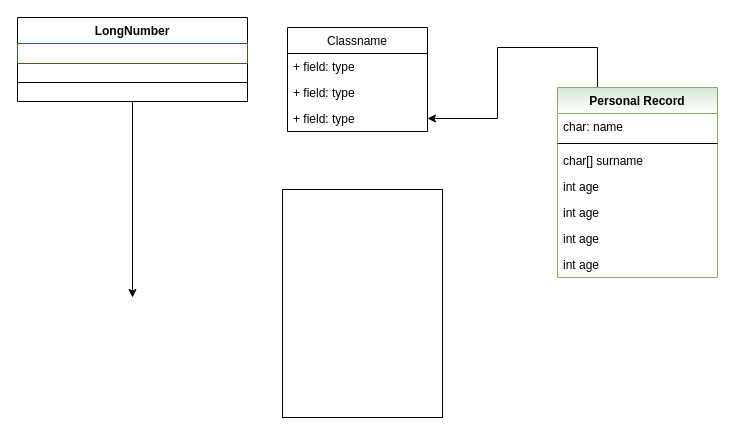
The diagram is 735 pixels wide and 435 high, and some of its shapes have lost their labels. The centre of each missing label's shape, as x and y in pixels:
+ frf: type: [132,53]
Class + field: Type + method(): Type: [362,303]
